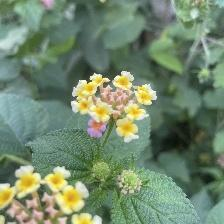common lanthana: (69, 68, 166, 143)
